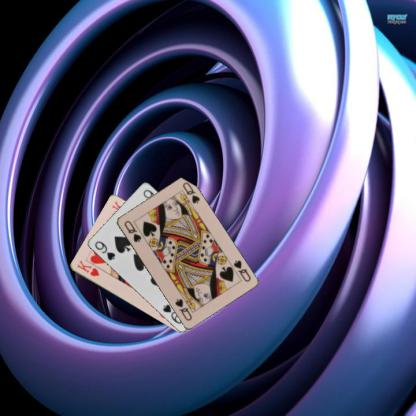9s: (92, 238, 116, 262)
Kh: (74, 258, 100, 278)
Qs: (230, 257, 252, 283), (121, 218, 142, 243)
